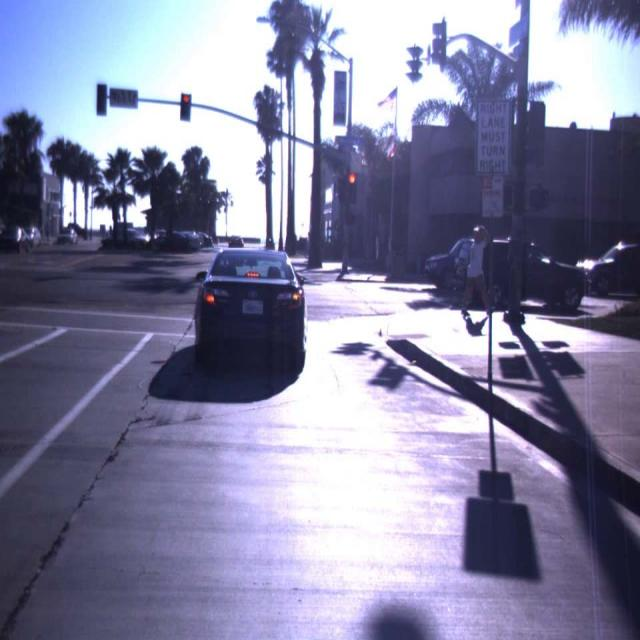kirmizi: (345, 172, 356, 206), (180, 93, 191, 122)
